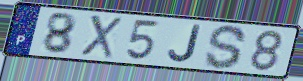5: (125, 18, 161, 61)
8: (41, 11, 80, 55), (248, 28, 286, 73)
J: (167, 24, 204, 64)
S: (203, 23, 249, 71)
X: (79, 13, 124, 60)
